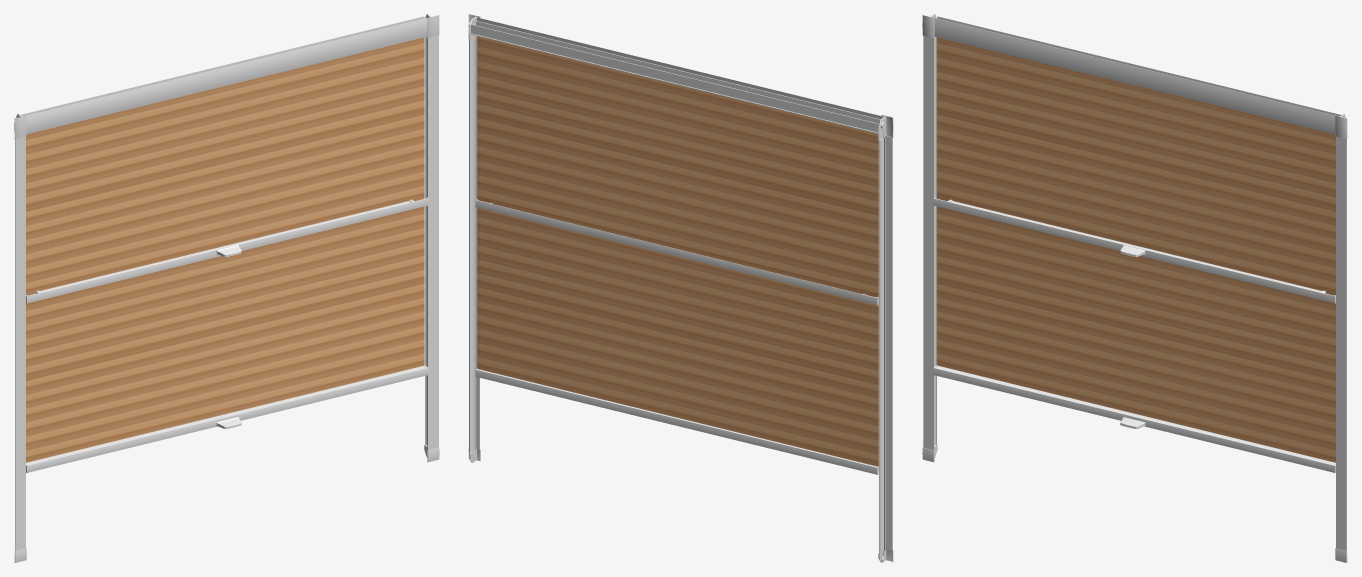
Rendered from DF Comfort 30.glb.
The picture shows the model from 3 angles, left to right: view 1: azimuth 30°, elevation 25°; view 2: azimuth 150°, elevation 25°; view 3: azimuth 330°, elevation 25°; orthographic projection.
Visible parts, largest first — view 1: Plane.003, Plane.004, Plane.008, Plane.002, Plane.001, Cube.005, Cube.004, Plane.009; view 2: Plane.003, Plane.004, Plane.009, Plane.001, Plane.002, Cube.005, Cube.004, Plane.008; view 3: Plane.003, Plane.004, Plane.008, Plane.001, Plane.002, Cube.005, Cube.004, Plane.009.
Part boxes in pixels (box(x1,y1,x2,y2)): Plane.003: box(26, 37, 424, 295); Plane.004: box(26, 206, 424, 462); Plane.008: box(26, 18, 427, 134); Plane.002: box(425, 36, 438, 450); Plane.001: box(15, 136, 25, 550); Cube.005: box(26, 366, 427, 472); Cube.004: box(28, 198, 427, 302); Plane.009: box(20, 16, 424, 116); Plane.003: box(477, 36, 878, 299); Plane.004: box(477, 207, 878, 466); Plane.009: box(471, 20, 880, 133); Plane.001: box(879, 135, 892, 553); Plane.002: box(469, 36, 479, 453); Cube.005: box(477, 369, 876, 474); Cube.004: box(477, 200, 875, 304); Plane.008: box(477, 17, 883, 119); Plane.003: box(937, 37, 1335, 295); Plane.004: box(937, 206, 1335, 462); Plane.008: box(934, 18, 1335, 134); Plane.001: box(923, 36, 936, 450); Plane.002: box(1336, 136, 1346, 550); Cube.005: box(934, 366, 1335, 472); Cube.004: box(934, 198, 1333, 302); Plane.009: box(937, 16, 1341, 116).
Size of the model in its own units: 0.9998 by 0.9994 by 0.0576.
5 materials, 2 textured.
